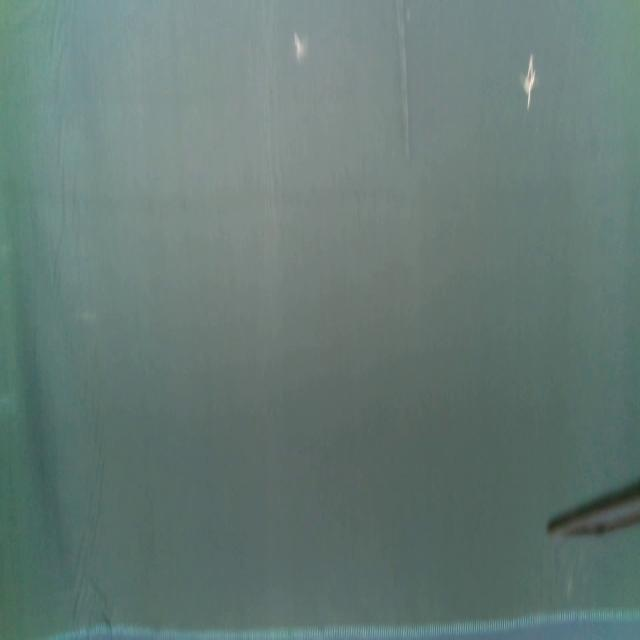crease: (397, 0, 412, 166)
hole: (521, 53, 536, 110), (293, 31, 308, 67)
